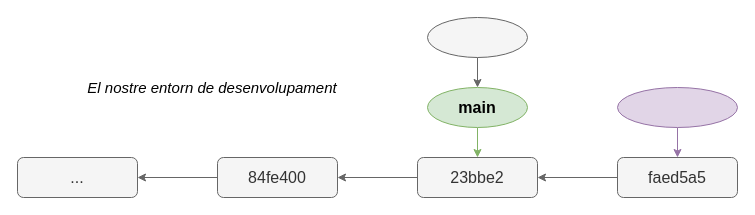
Some shapes in this 755 by 215 pixel diagram are drawn without their labels. The shapes that lost their labels are listed below. From the top down, each one's centre as x and y in pixels, then its label:
At point 477,37: "HEAD".
At point 677,107: "origin/main".
